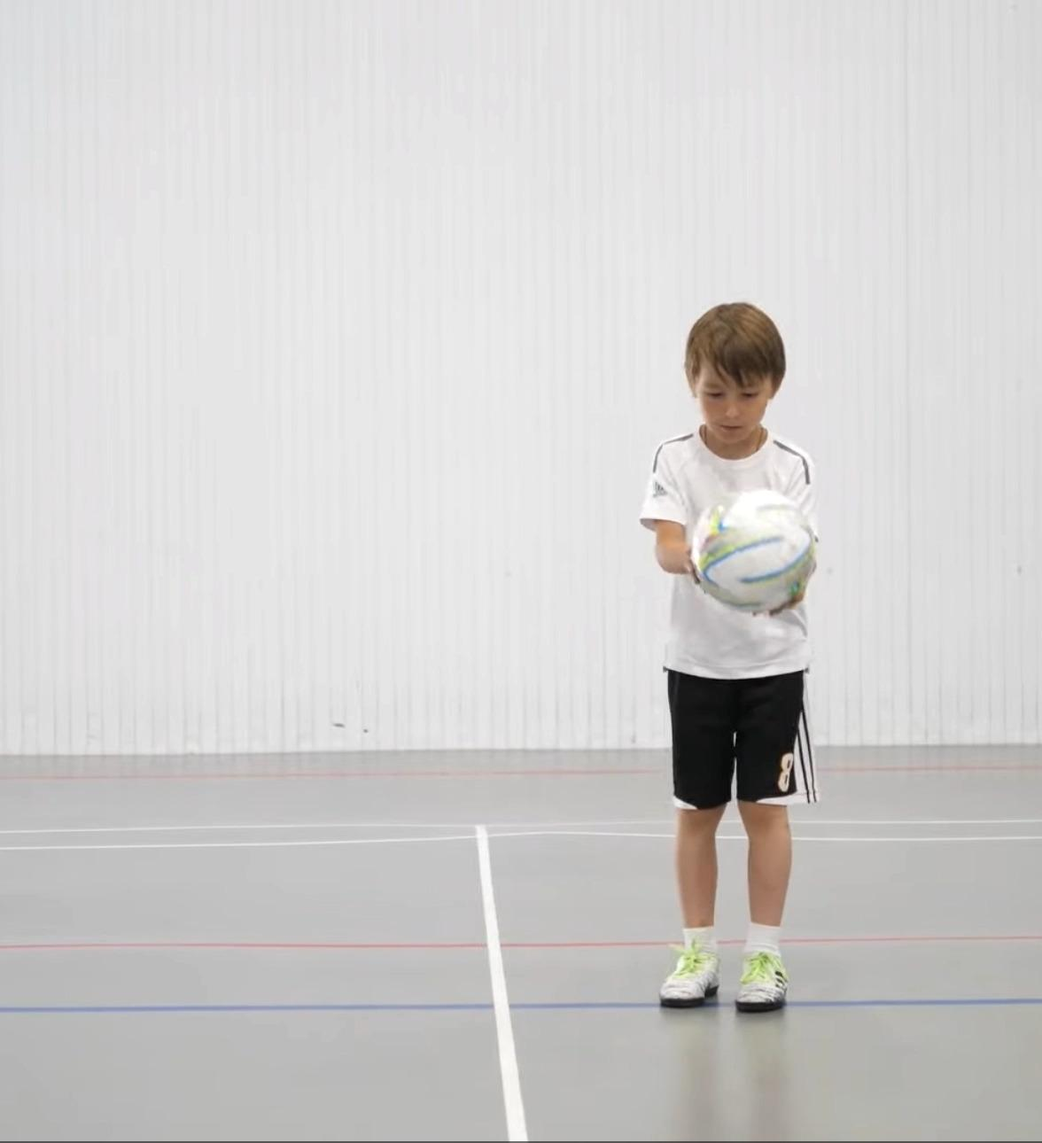ball: (692, 494, 815, 612)
foot: (731, 936, 789, 1020), (658, 939, 720, 1008)
person: (641, 301, 822, 1013)
